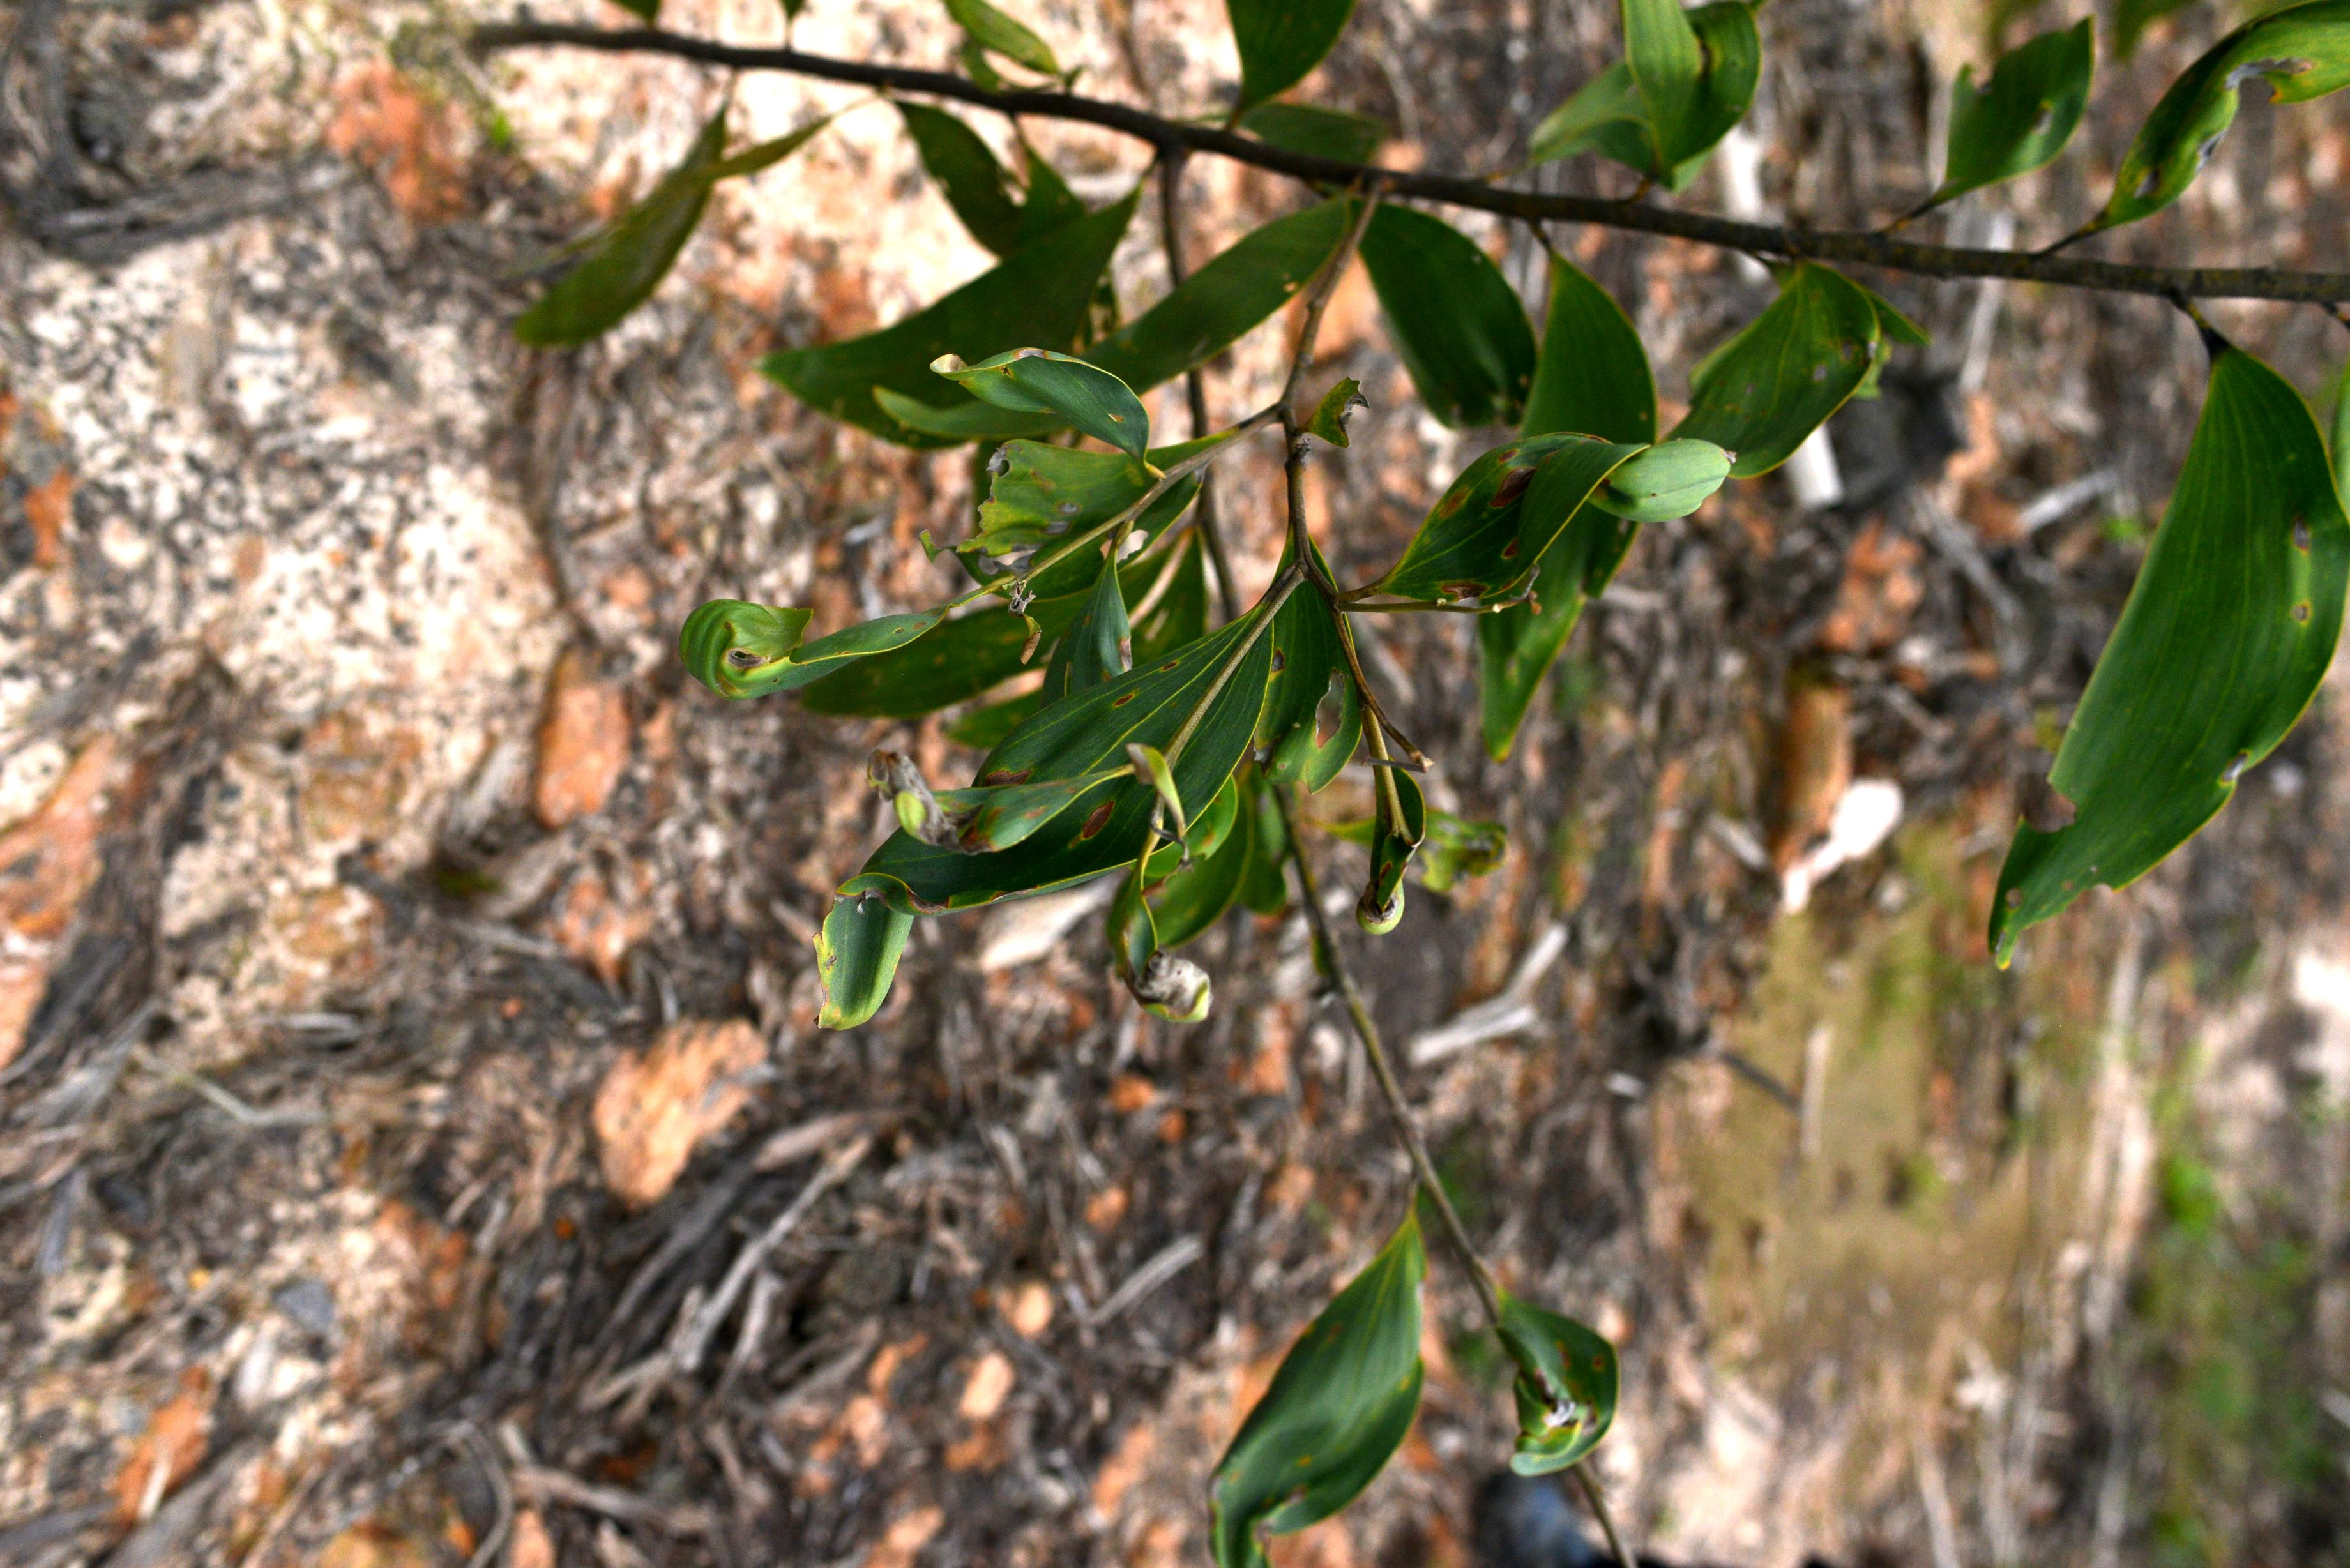Pasalora: (1986, 320, 2350, 954), (1342, 252, 1871, 584), (805, 761, 1207, 1041), (1185, 1223, 1452, 1568), (2039, 0, 2350, 250), (1370, 429, 1745, 612), (1473, 0, 1776, 198), (677, 572, 1041, 731), (910, 329, 1169, 534), (968, 416, 1237, 567), (997, 126, 1211, 273), (1346, 768, 1528, 926), (1486, 1262, 1615, 1477)
